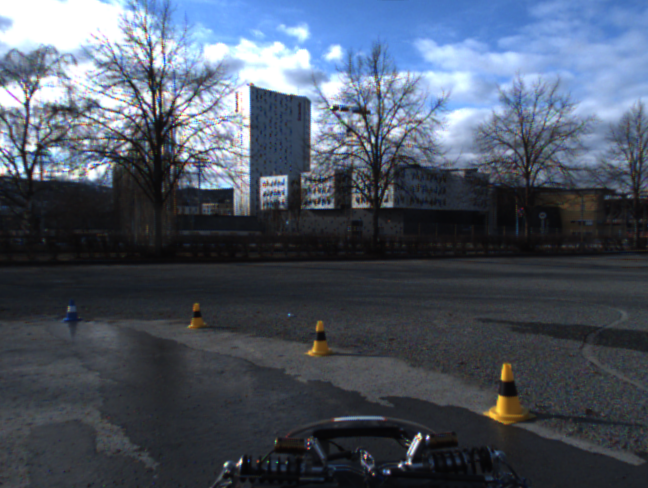cone-small-blue: (61, 299, 83, 323)
cone-small-yellow: (482, 362, 537, 425), (303, 319, 336, 358), (187, 303, 207, 330)
